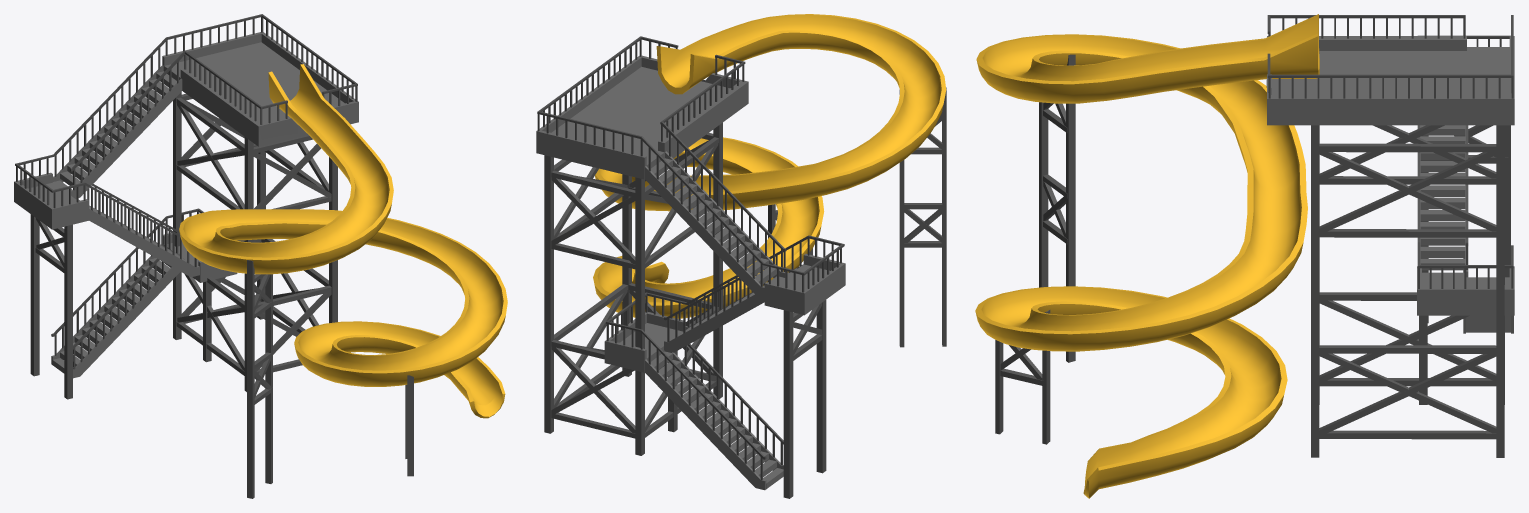
The model's file is Water_slide_01.fbx.
3 views of the same model, side by side, from view 1: azimuth 30°, elevation 25°; view 2: azimuth 150°, elevation 25°; view 3: azimuth 270°, elevation 25° (orthographic). The views are drawn at different scales.
Visible parts, largest first — view 1: Water_slide_01; view 2: Water_slide_01; view 3: Water_slide_01.
Part boxes in pixels (x1,y1,x2,y2): Water_slide_01: (14, 14, 507, 498); Water_slide_01: (536, 14, 946, 498); Water_slide_01: (975, 14, 1514, 498).
Bounding box in the file's own units: 1152 × 1070 × 1283.
